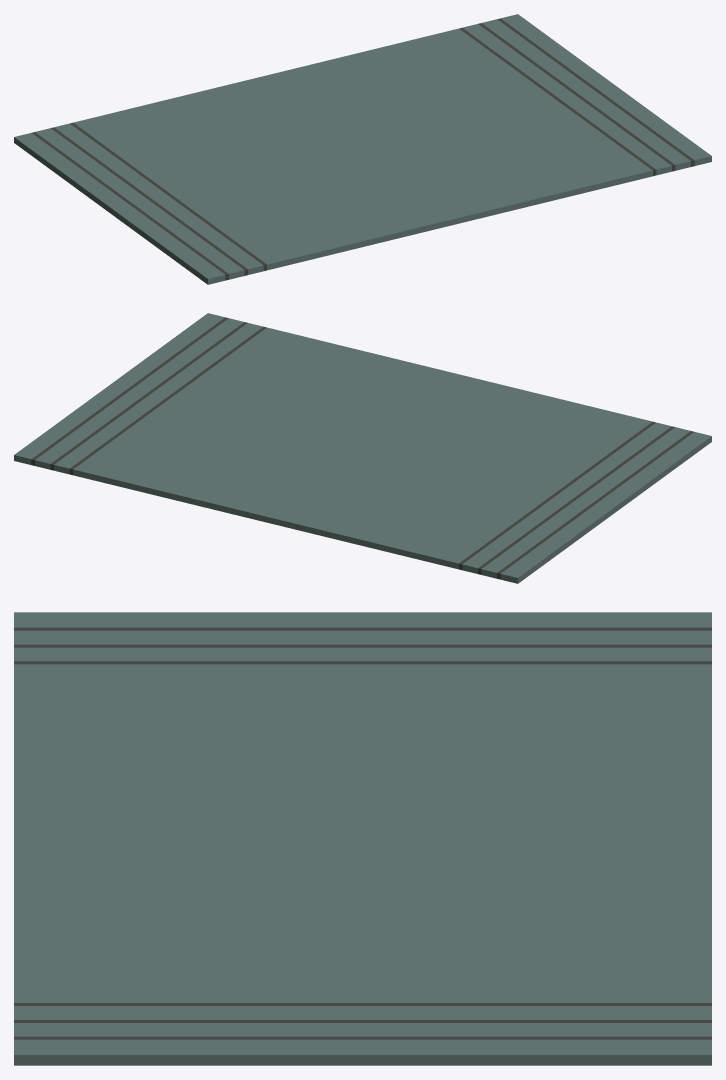
The model's file is Carpet5_C3.fbx.
3 renders of one model, top to bottom at view 1: azimuth 30°, elevation 25°; view 2: azimuth 150°, elevation 25°; view 3: azimuth 270°, elevation 25°, orthographic. The views are drawn at different scales.
Visible parts, largest first — view 1: Carpet5_C3; view 2: Carpet5_C3; view 3: Carpet5_C3.
Boxes of the visible parts, x1=… form: Carpet5_C3: x1=14, y1=14, x2=711, y2=284; Carpet5_C3: x1=14, y1=313, x2=711, y2=583; Carpet5_C3: x1=14, y1=612, x2=711, y2=1065.
Bounding box in the file's own units: 90 × 1 × 60.
